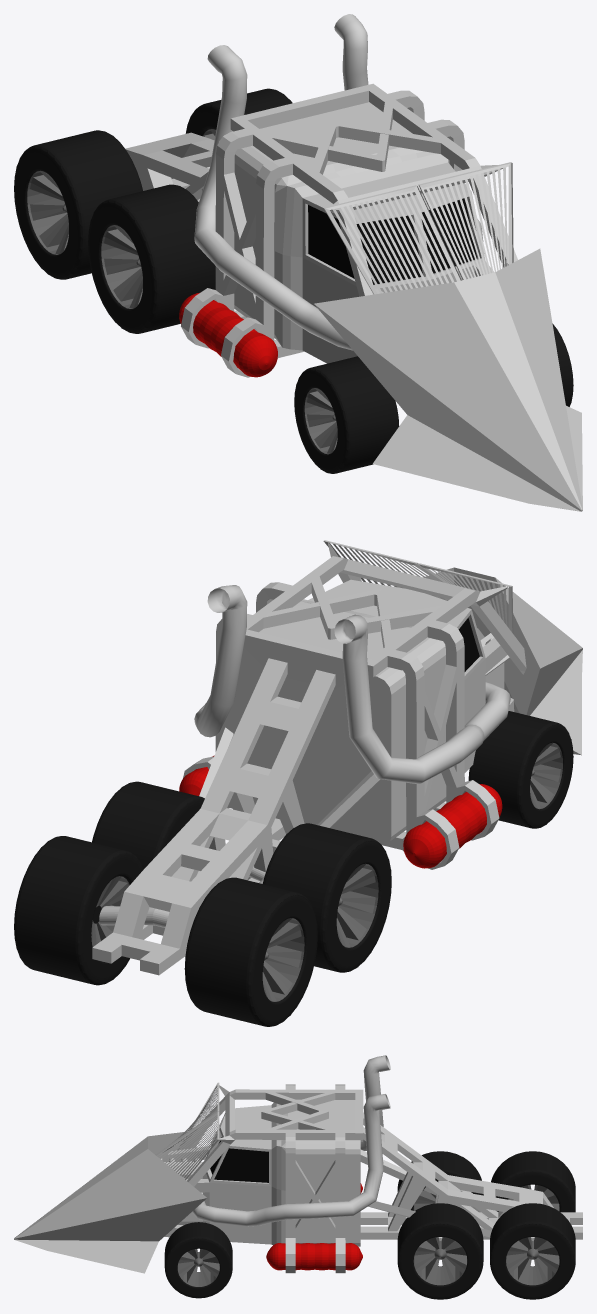
Rendered from empaler_truck.obj.
3 renders of one model, top to bottom at view 1: azimuth 30°, elevation 25°; view 2: azimuth 150°, elevation 25°; view 3: azimuth 270°, elevation 25°, orthographic. The views are drawn at different scales.
Parts seen in each view (by area): view 1: Cube.001, Cube, Cylinder.002, Cylinder.004, Cylinder.003, Cylinder.005, Cylinder.007; view 2: Cube, Cube.001, Cylinder.004, Cylinder.005, Cylinder.002, Cylinder.003, Cylinder.006; view 3: Cube, Cube.001, Cylinder.006, Cylinder.005, Cylinder.007, Cylinder.004, Cylinder.002.
Part boxes in pixels (x1,y1,x2,y2): Cube.001: [179, 83, 582, 511]; Cube: [125, 14, 494, 363]; Cylinder.002: [88, 184, 215, 333]; Cylinder.004: [14, 130, 142, 279]; Cylinder.003: [294, 356, 399, 473]; Cylinder.005: [185, 88, 292, 140]; Cylinder.007: [552, 323, 573, 406]; Cube: [92, 579, 514, 975]; Cube.001: [179, 540, 582, 869]; Cylinder.004: [184, 877, 317, 1026]; Cylinder.005: [14, 836, 143, 985]; Cylinder.002: [262, 823, 391, 972]; Cylinder.003: [468, 711, 573, 828]; Cylinder.006: [92, 781, 204, 869]; Cube: [161, 1055, 582, 1246]; Cube.001: [14, 1082, 363, 1273]; Cylinder.006: [397, 1203, 483, 1299]; Cylinder.005: [490, 1203, 575, 1299]; Cylinder.007: [164, 1222, 232, 1298]; Cylinder.004: [491, 1151, 575, 1212]; Cylinder.002: [397, 1151, 483, 1210].
Bounding box in the file's own units: 3.72 × 3.98 × 10.85.
